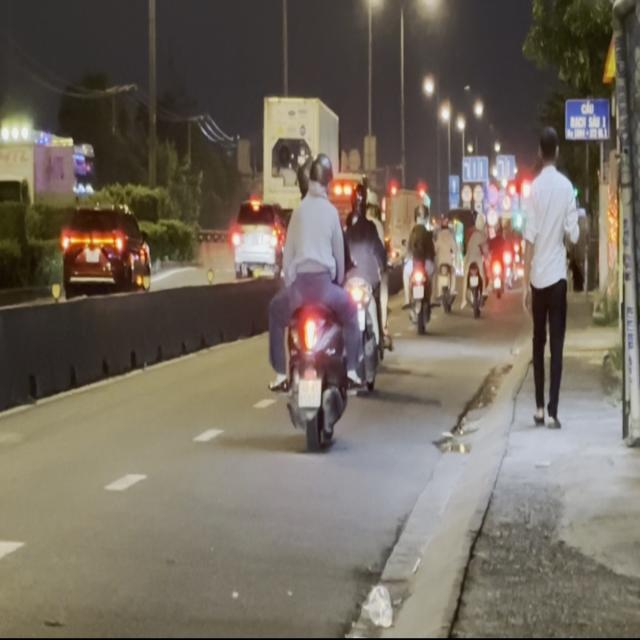helmet: (294, 147, 313, 201), (311, 152, 333, 195)
licenseplate: (264, 141, 357, 452)
nohelmet: (297, 379, 321, 407)
